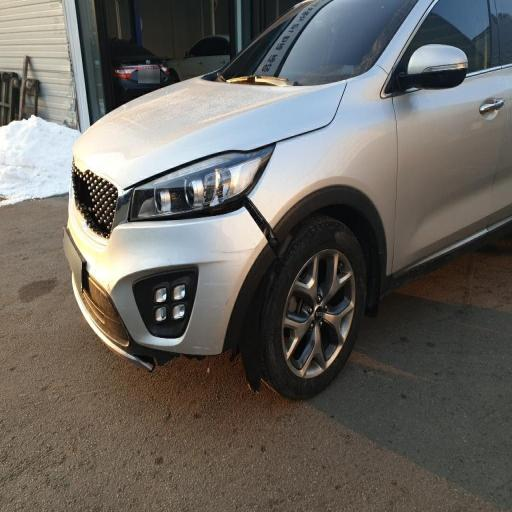broken: (216, 163, 295, 267)
